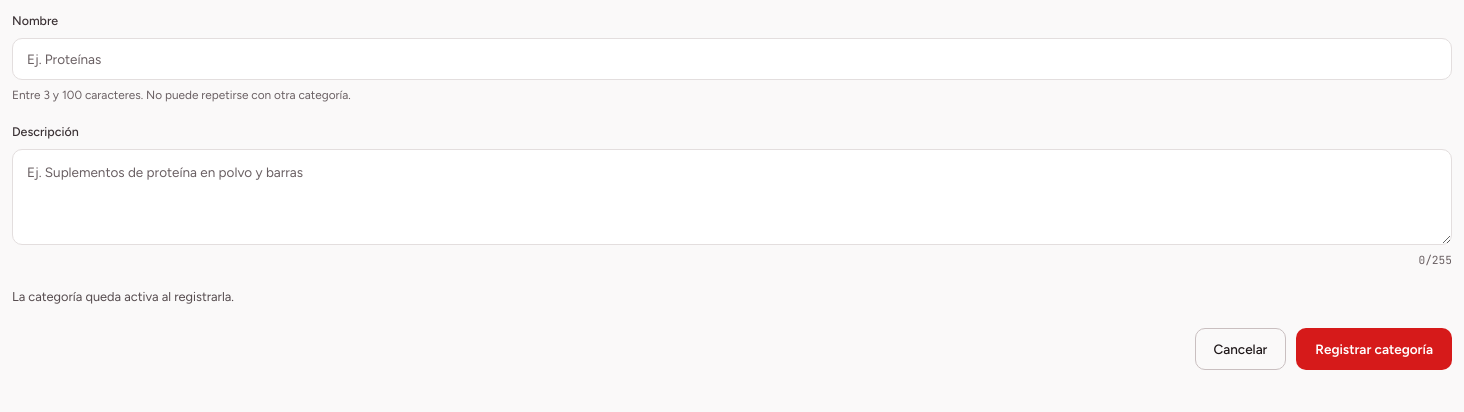
CreateCategoryForm › shows the duplicate error the api returns
Step 1. Type "Proteínas" into the field labelled "Nombre" → [732, 59], box [12,38,1452,80]
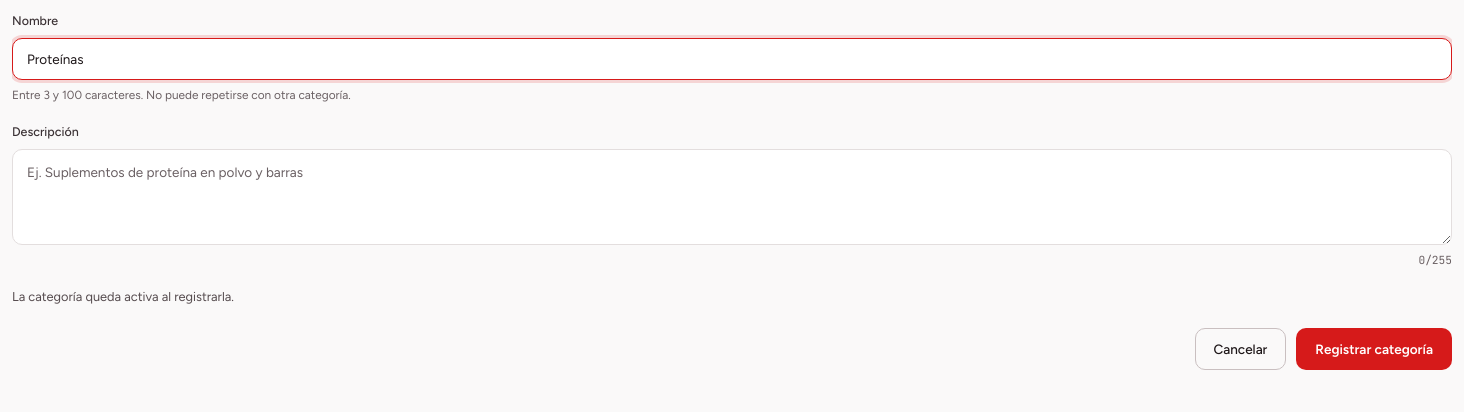
Step 2. Type "Suplementos" into the text box labelled "Descripción" → [732, 197], box [12,149,1452,245]
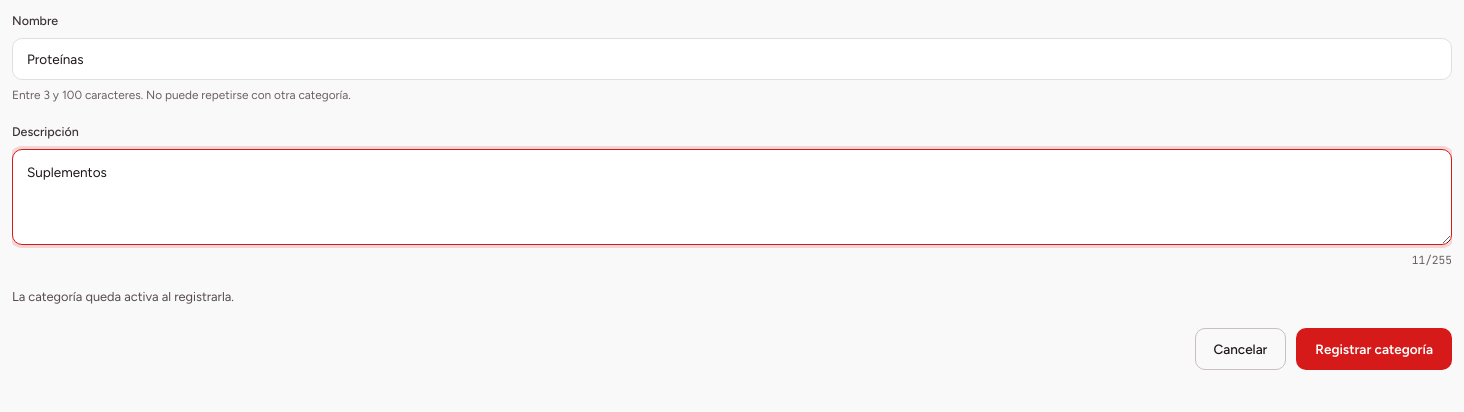
Step 3. Click the button "Registrar categoría" → [1374, 349], box [1296,328,1452,370]
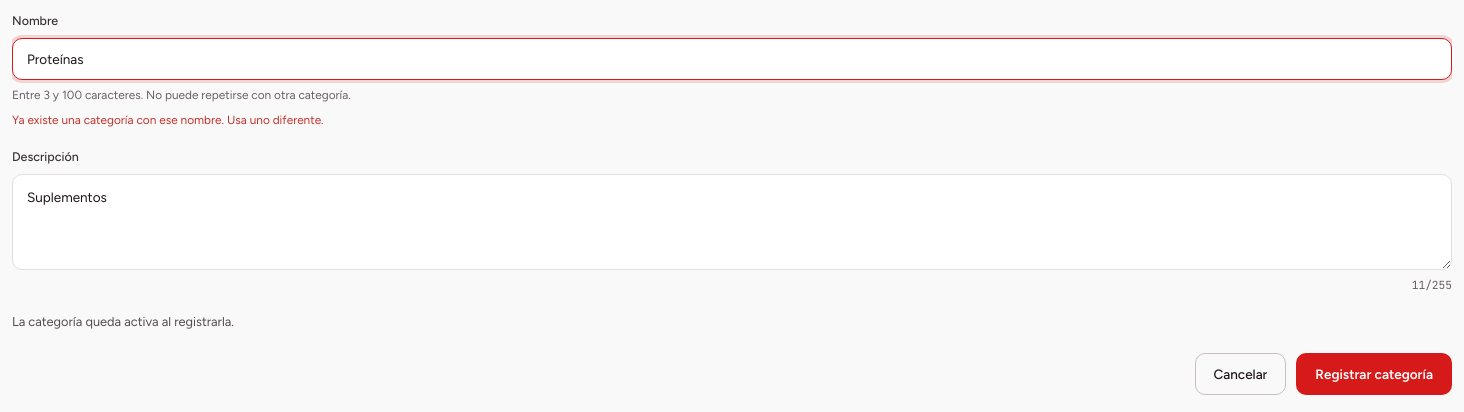
Now the text "Ya existe una categoría con ese nombre. Usa uno diferente." is shown, box [12,113,324,127]
